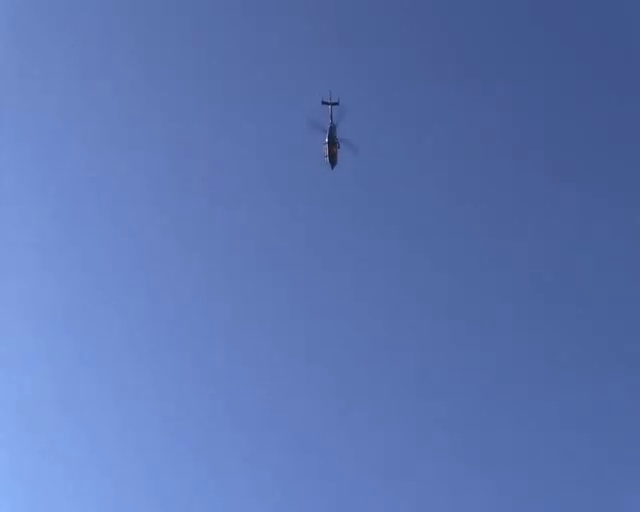HELICOPTER: (310, 89, 360, 170)
